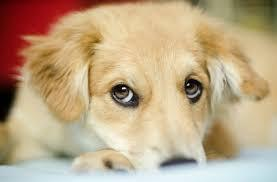Dog: (65, 0, 267, 171)
